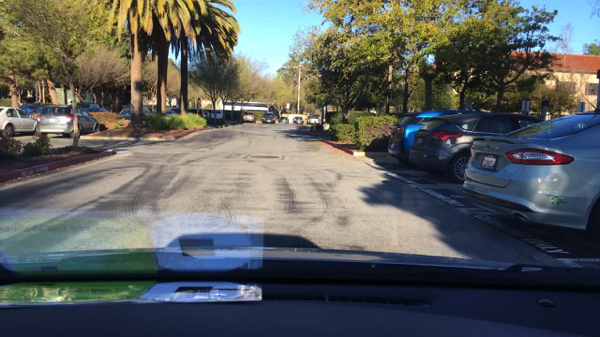car: (462, 108, 600, 240), (406, 114, 542, 184), (387, 109, 483, 166), (37, 105, 101, 137), (0, 106, 38, 137), (18, 104, 47, 118), (117, 107, 149, 116), (77, 103, 109, 112), (261, 111, 276, 124), (210, 108, 224, 120), (241, 111, 255, 123), (202, 110, 212, 125), (308, 116, 320, 125), (188, 109, 203, 115), (292, 117, 303, 125), (165, 110, 176, 116), (278, 118, 288, 124), (171, 108, 181, 113), (150, 109, 157, 115)
